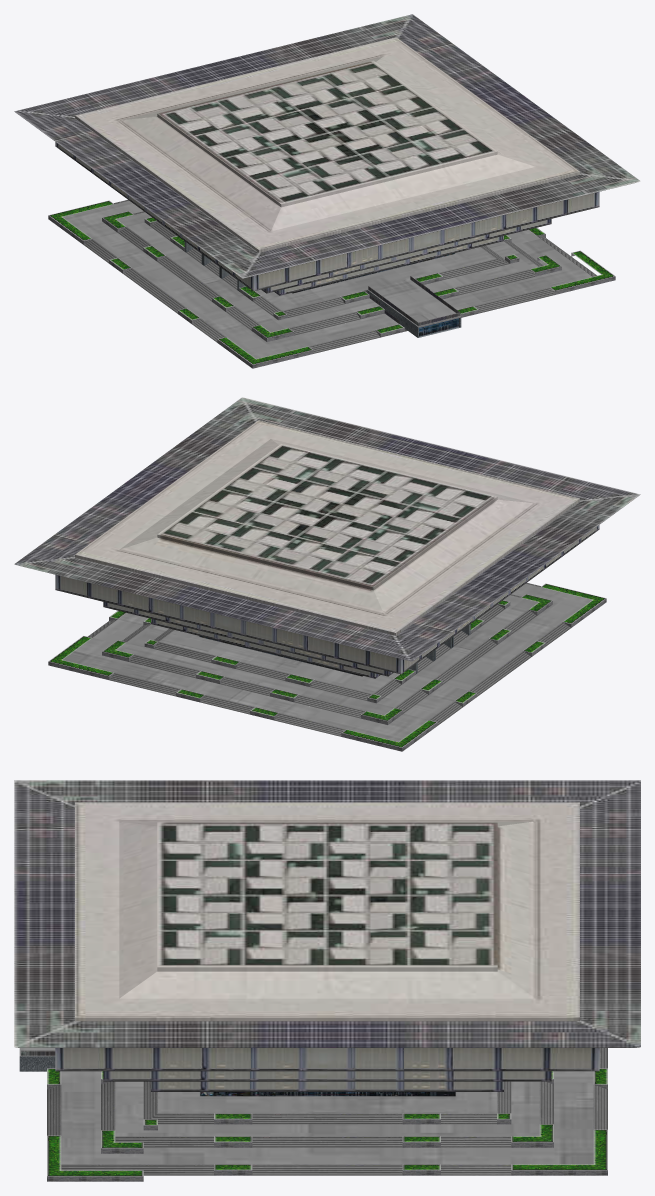
The picture shows the model from 3 angles, top to bottom: view 1: azimuth 30°, elevation 25°; view 2: azimuth 150°, elevation 25°; view 3: azimuth 270°, elevation 25°; orthographic projection. The views are drawn at different scales.
Visible parts, largest first — view 1: 5dc4dcc66aea330f8c097ee2; view 2: 5dc4dcc66aea330f8c097ee2; view 3: 5dc4dcc66aea330f8c097ee2.
Boxes of the visible parts, bbox=[...] form: 5dc4dcc66aea330f8c097ee2: bbox=[14, 14, 640, 368]; 5dc4dcc66aea330f8c097ee2: bbox=[14, 397, 640, 751]; 5dc4dcc66aea330f8c097ee2: bbox=[14, 780, 640, 1181].
Size of the model in its own units: 111 by 31.46 by 110.
Materials: 1 (1 with a texture image).
